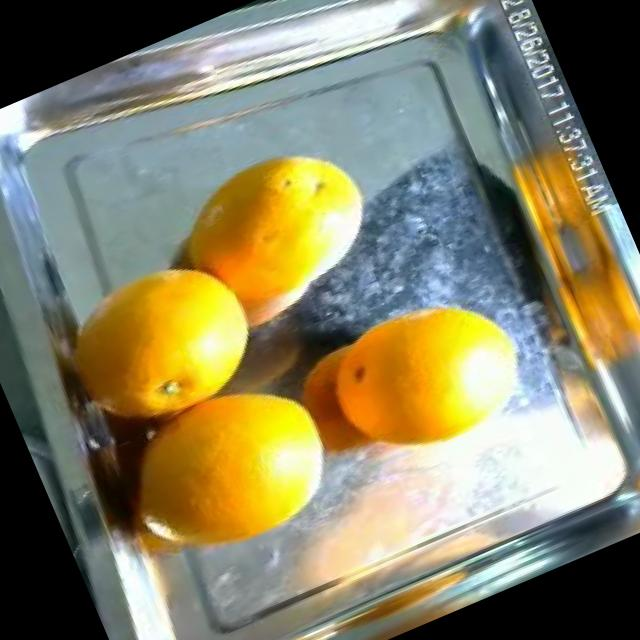Fruit: (299, 256, 563, 494), (153, 113, 407, 344)
